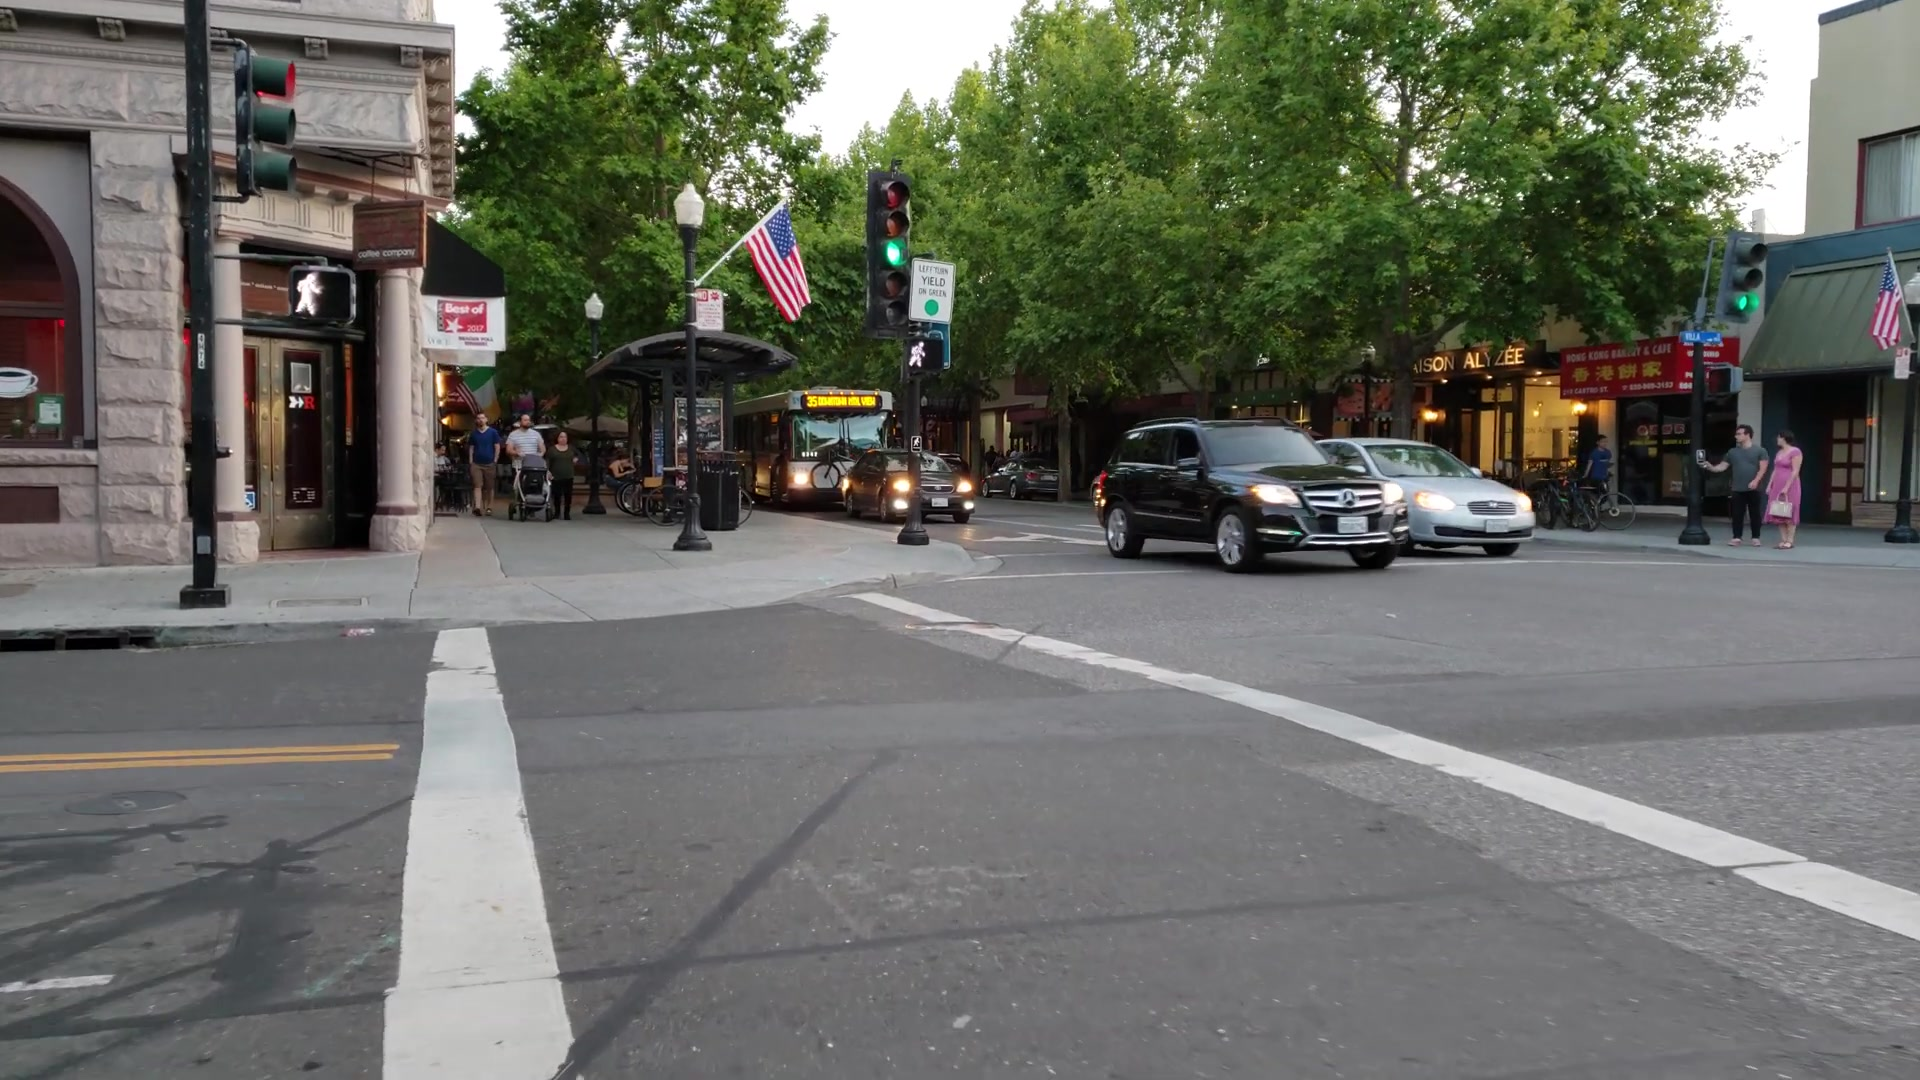vehicle: (1092, 417, 1408, 572), (1323, 436, 1531, 566), (735, 397, 897, 505), (843, 448, 973, 521)
